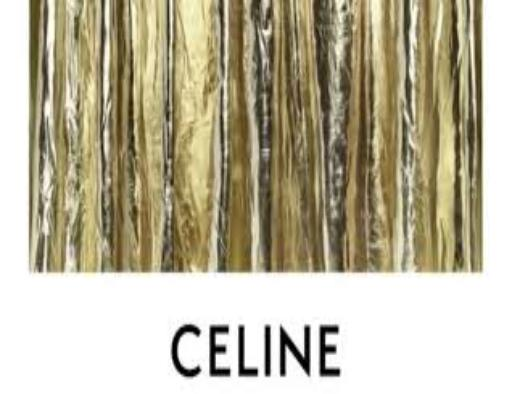CELINE: (164, 309, 346, 394)
